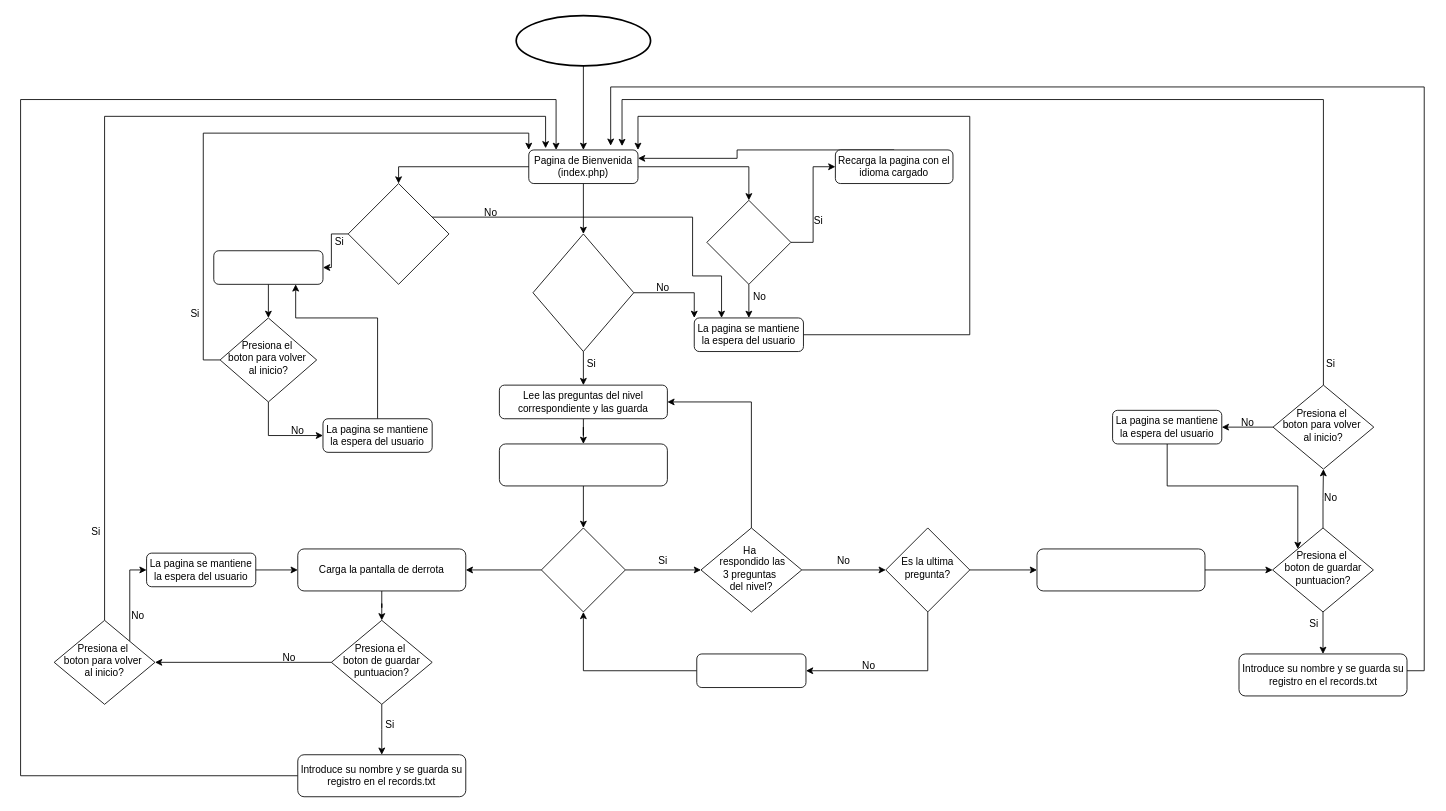
Some shapes in this 1446 by 811 pixel diagram are drawn without their labels. The shapes that lost their labels are listed below. From the top down, each one's centre as x and y in pixels, then its label:
pixel 583 40: Se inicia la aplicacion y se entra en la web
pixel 398 233: El usuario hace click en el boton Ranking
pixel 748 242: Se cambia el idioma?
pixel 268 267: Carga la pagina con el ranking (ranking.php)
pixel 583 292: El usuario hace click en el boton Jugar
pixel 583 464: Carga la pagina con el juego y una de las 3 preguntas cargadas(game.php)
pixel 583 569: Responde correctamente la pregunta?
pixel 1120 569: Carga la pantalla de felicitaciones
pixel 751 670: Muestra la proxima pregunta
